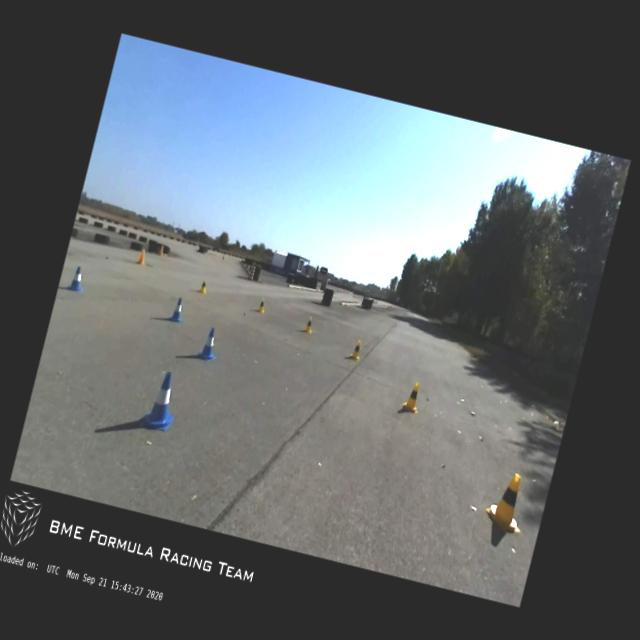blue_cone: (140, 367, 185, 434), (196, 325, 222, 363), (165, 294, 188, 322), (67, 264, 88, 292)
yellow_cone: (481, 468, 534, 537), (400, 379, 423, 414), (349, 339, 363, 360), (302, 315, 314, 334), (256, 297, 267, 314), (198, 280, 208, 294)
